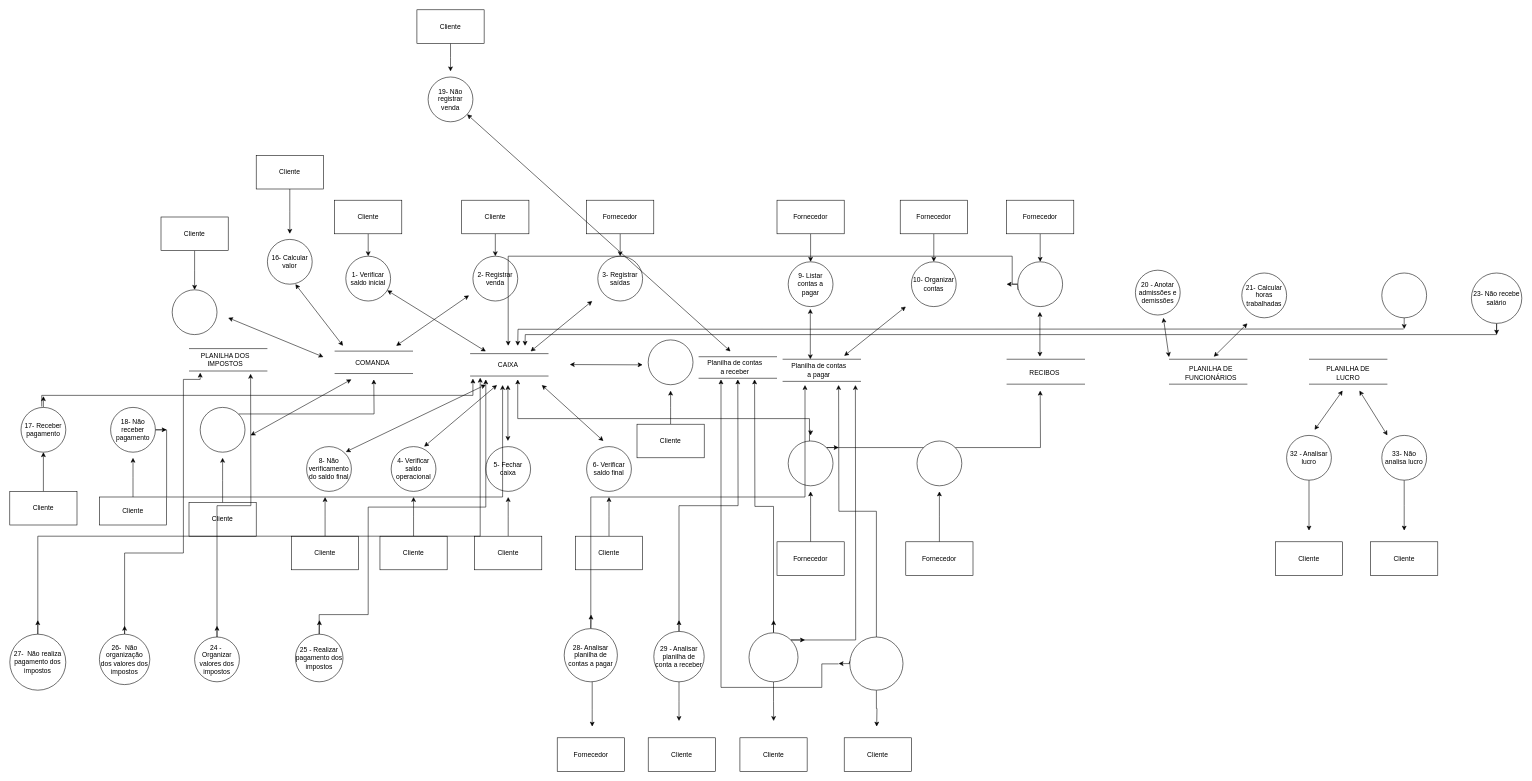
The diagram is 1532 pixels wide and 781 high, and some of its shapes have lost their labels. The centre of each missing label's shape, as x and y in pixels:
11- Pagar contas: point (1040, 284)
12- Negociar pagamento: point (810, 463)
13- Não pagamento das contas: point (939, 463)
14- Receber comanda: point (194, 312)
15- Entregar comanda: point (222, 429)
22- Receber salário: point (1404, 295)
30- Calcular contas a pagar e a receber: point (773, 657)
31- Não realiza o cálculo das contas: point (876, 663)
7- Não fechamento do caixa: point (670, 362)
